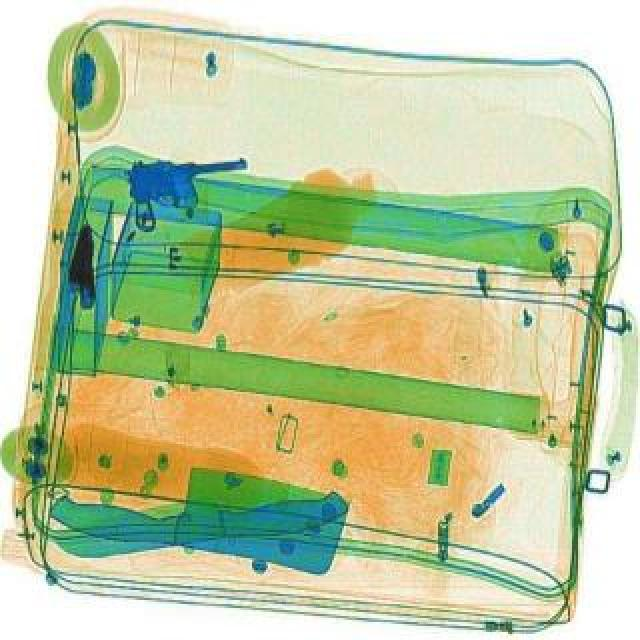gun: (126, 150, 250, 230), (56, 222, 116, 310)
knife: (42, 444, 350, 576), (52, 474, 352, 562)
